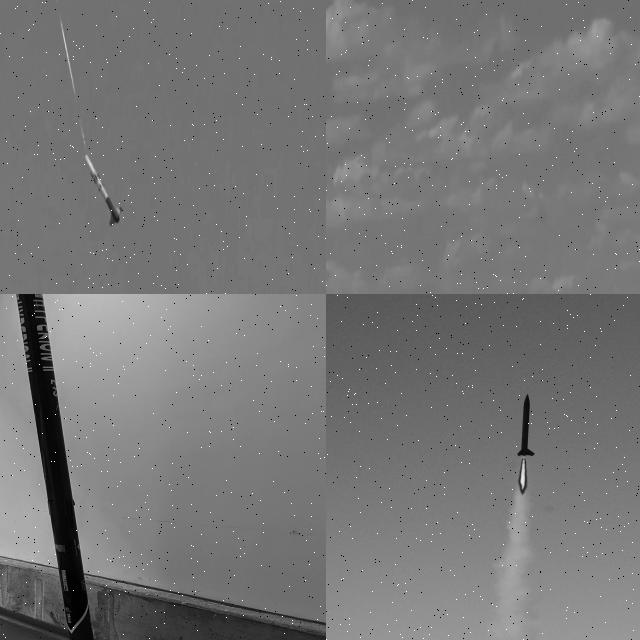Rocket: (16, 294, 94, 640), (84, 151, 126, 230), (517, 394, 535, 456)
